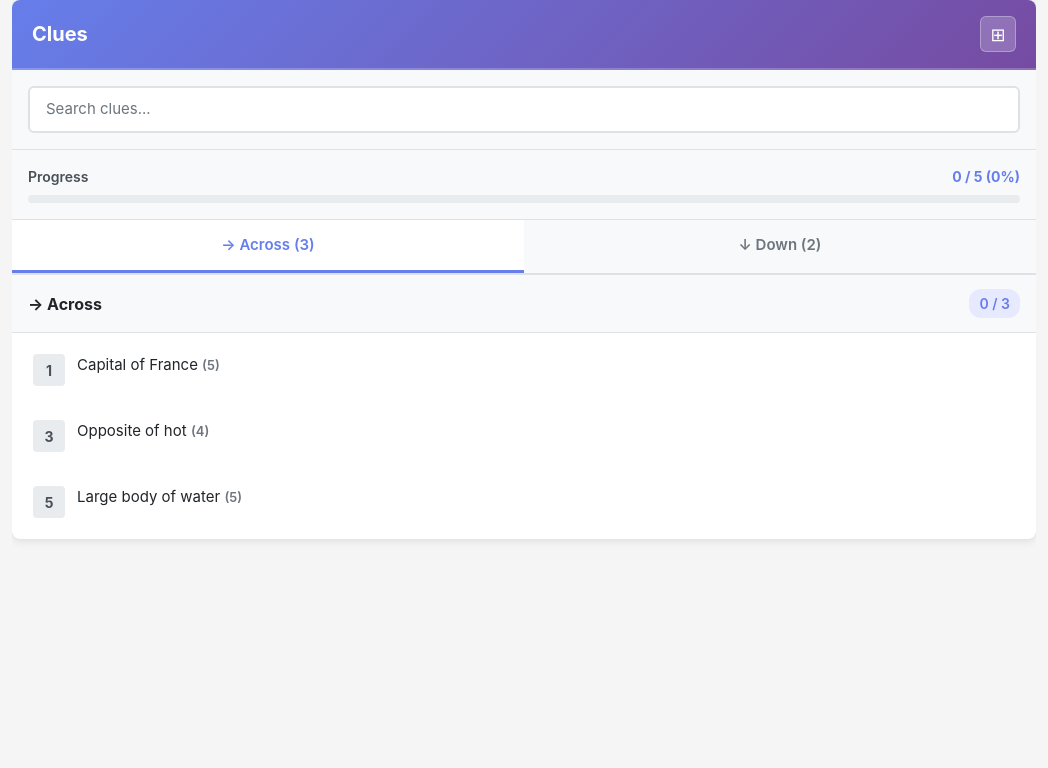
Test: CluePanel Component › Search Functionality › should clear search when clear button is clicked
The width and height of the screenshot is (1048, 768).
# Type search query
Type "France" into the field with test id "search-input" at (524, 109), box [28,86,1020,132]
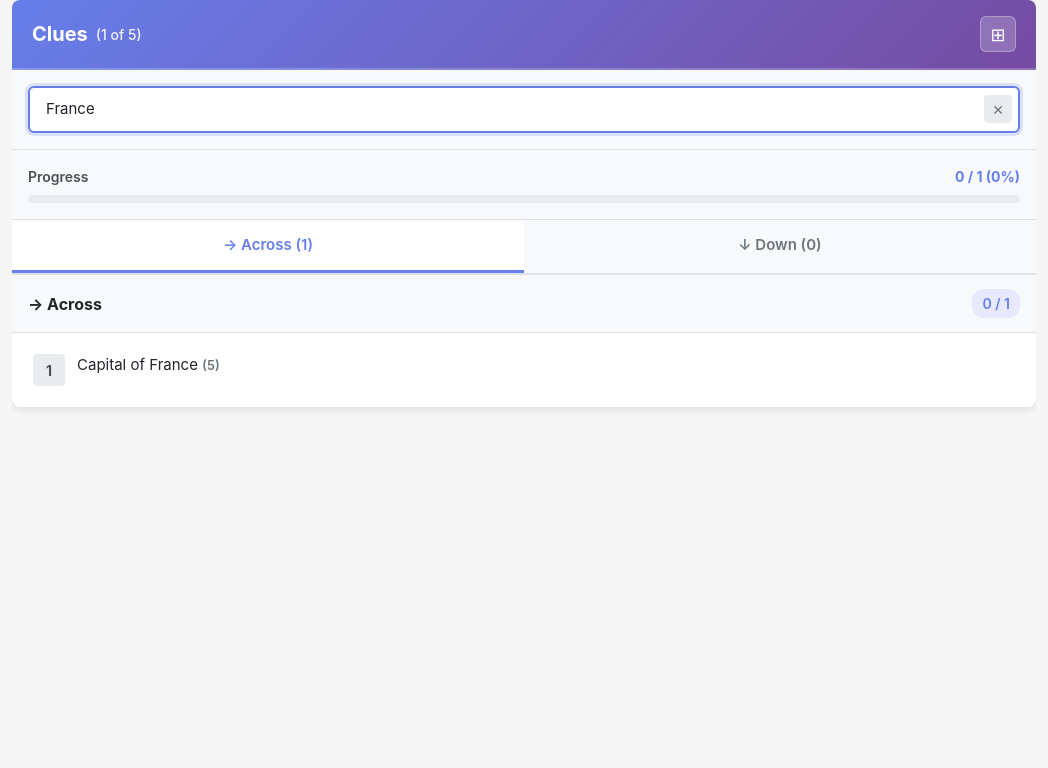
Expected: the button with test id "clear-search" is shown
# Click clear button
Click the button with test id "clear-search" at (998, 109), box [984,95,1012,123]
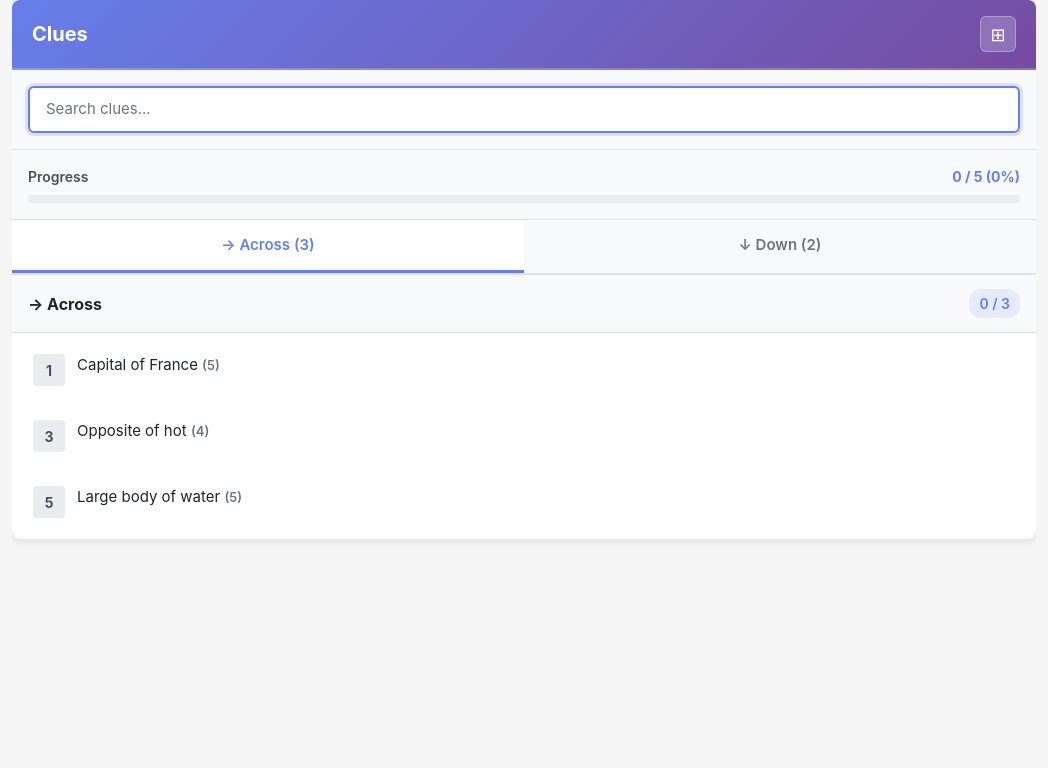
Expected: the field with test id "search-input" is empty, [28,86,1020,132]
Expected: the button with test id "clear-search" is gone
